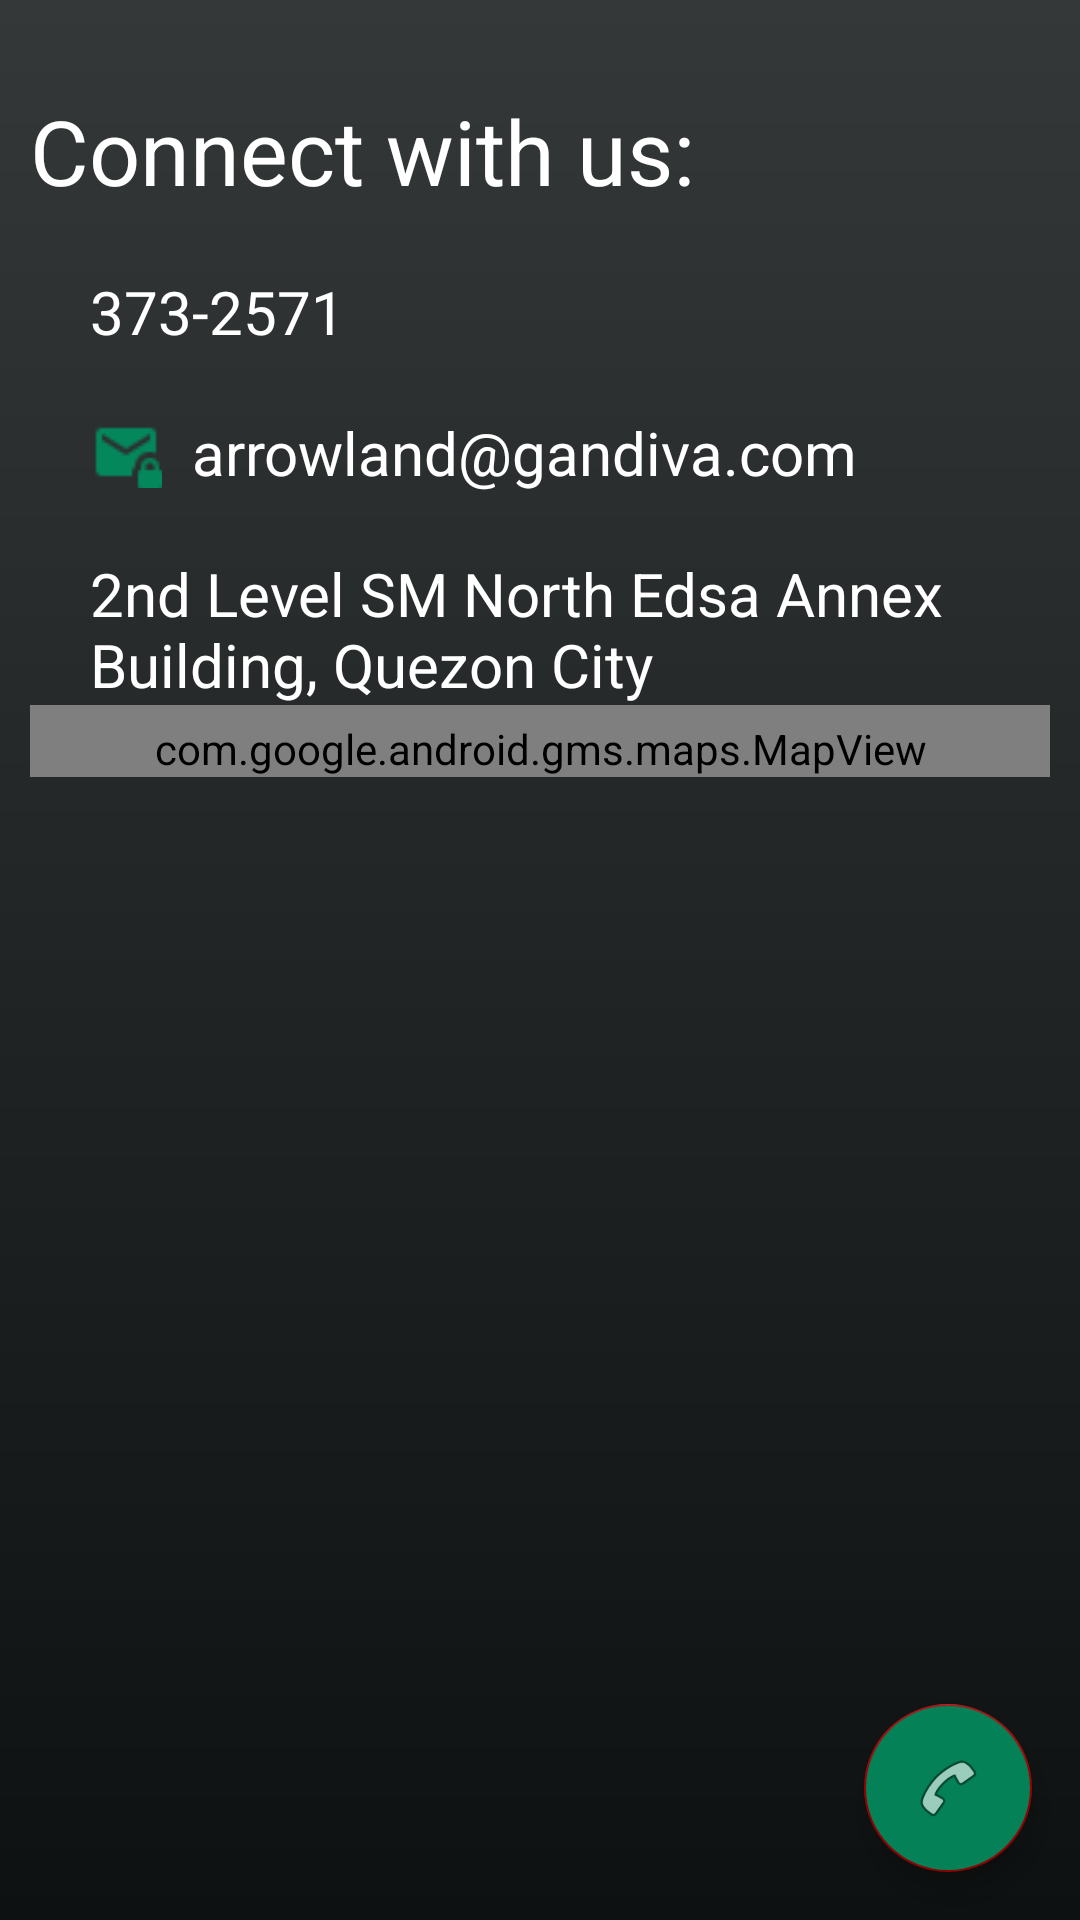

Named icons in this screenshot (1080*1920) and their bounding boxes, (x1, y1, x2, y2):
call: (864, 1704, 1032, 1872)
